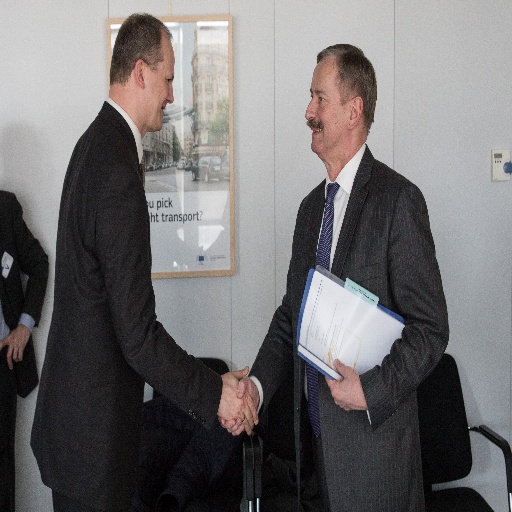hand: (219, 373, 260, 435), (323, 356, 368, 410), (0, 322, 29, 369)
